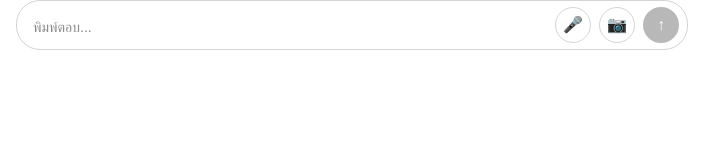
Test: Composer voice button › TM07 holding the mic asks for the microphone once and starts recording with a timer
The width and height of the screenshot is (705, 160).
Press the mouse on the button named "กดค้างเพื่อพูด" at point(573, 25), box x1=555 y1=7 x2=591 y2=43
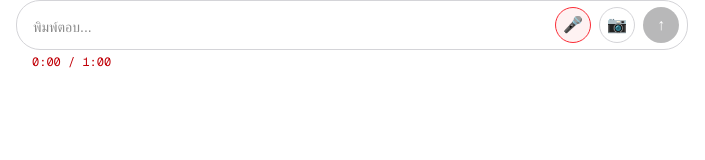
Result: the text "0:00 / 1:00" is shown at x1=32 y1=54 x2=111 y2=70
